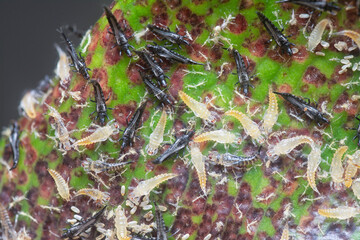Thrips: (139, 24, 205, 108), (268, 80, 339, 130), (258, 6, 302, 62), (58, 23, 93, 79), (177, 84, 219, 126), (298, 141, 330, 195), (231, 43, 260, 99), (100, 8, 131, 58), (118, 97, 146, 152), (74, 156, 128, 182), (45, 164, 77, 206), (73, 123, 118, 150), (186, 146, 208, 200), (194, 128, 243, 151), (206, 152, 262, 172), (88, 83, 115, 122), (147, 116, 168, 157), (147, 209, 173, 240), (7, 120, 22, 169)
